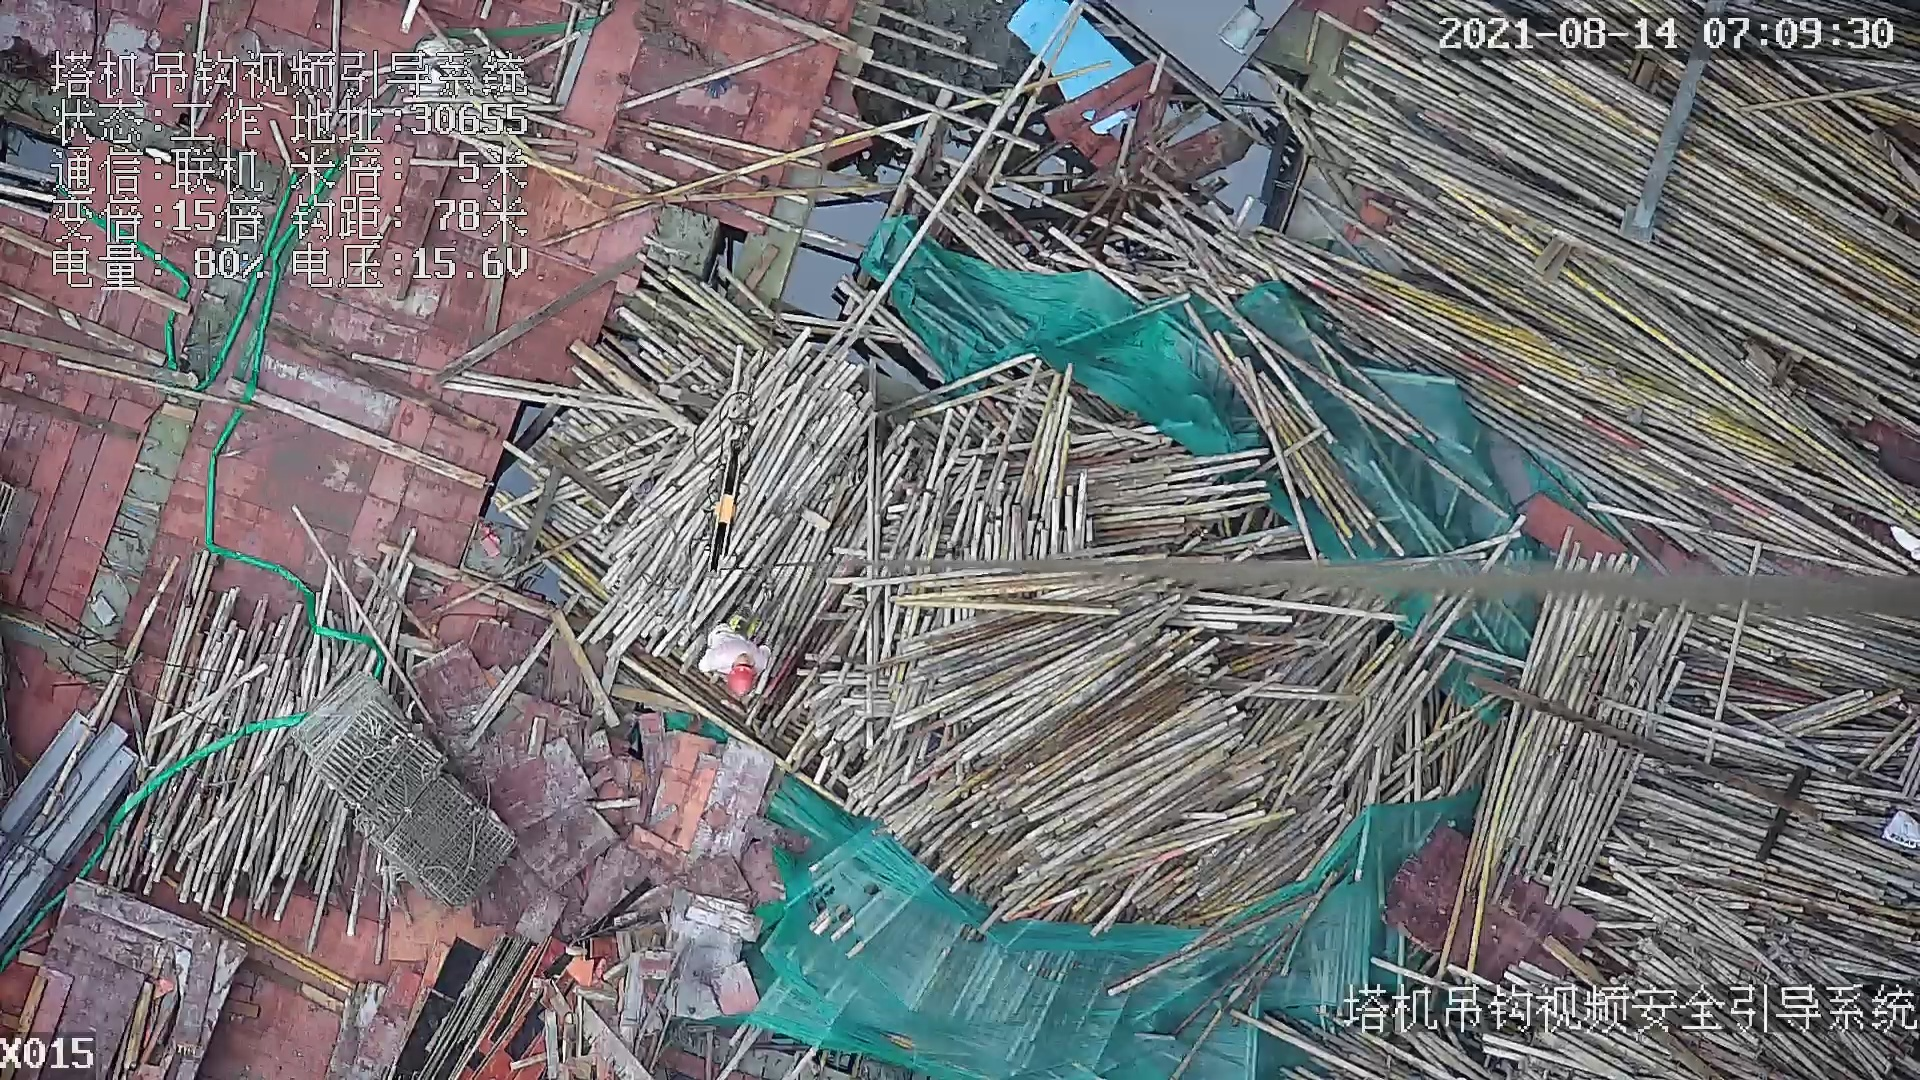helmet: (728, 664, 755, 699)
hook: (697, 432, 746, 574)
person: (697, 619, 774, 699)
